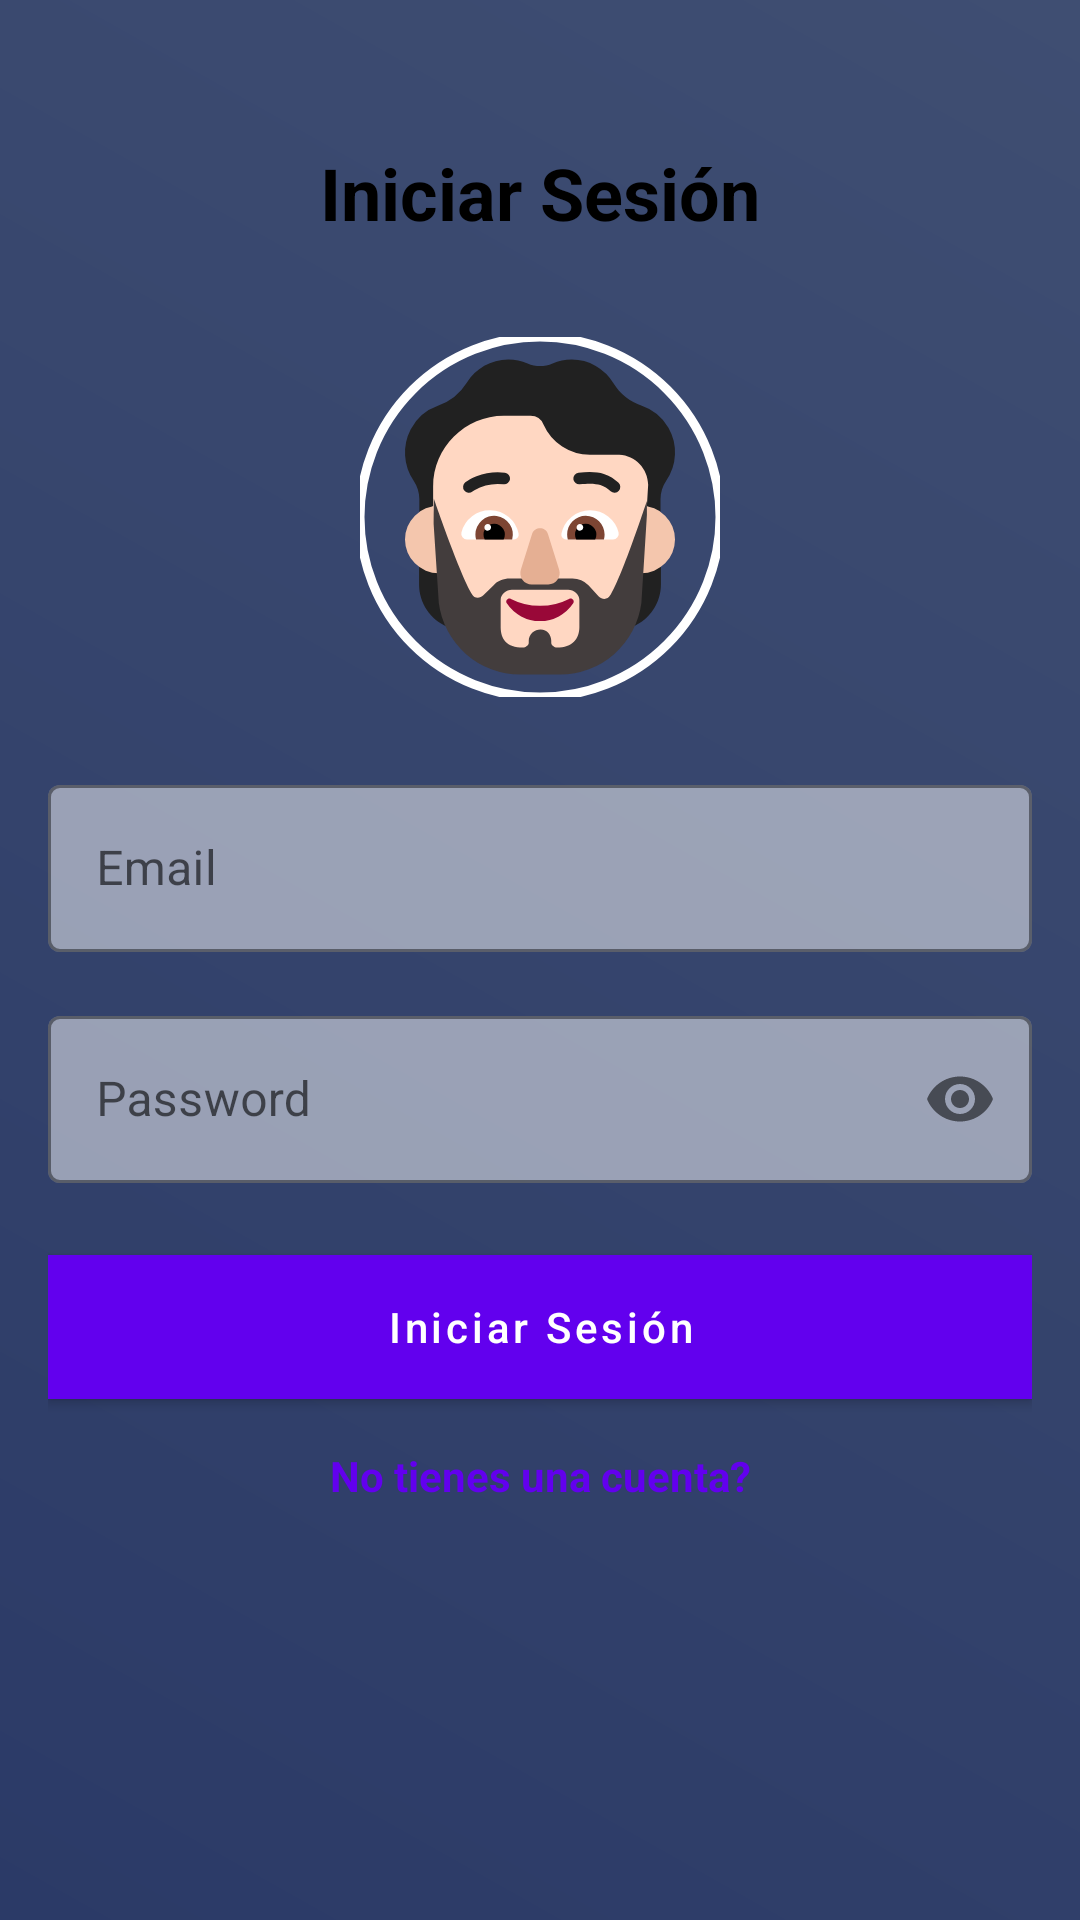

Where icons sit on this 1080px x 1920px app screen, as (x1, y1, x2, y2):
fluent emoji person beard: (360, 337, 720, 697)
